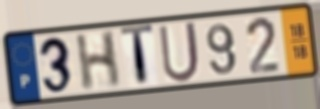2: (243, 14, 283, 77)
3: (38, 33, 79, 96)
9: (204, 22, 237, 76)
H: (73, 28, 122, 94)
T: (118, 22, 155, 90)
U: (157, 19, 203, 85)
